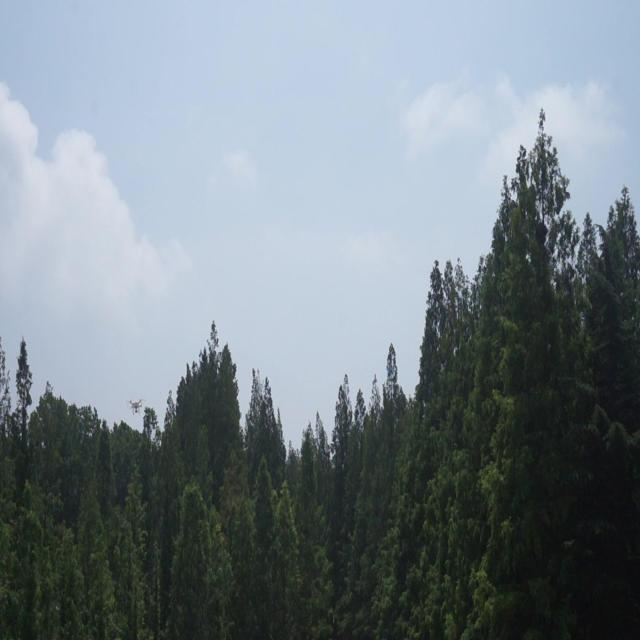drone: (126, 393, 146, 420)
